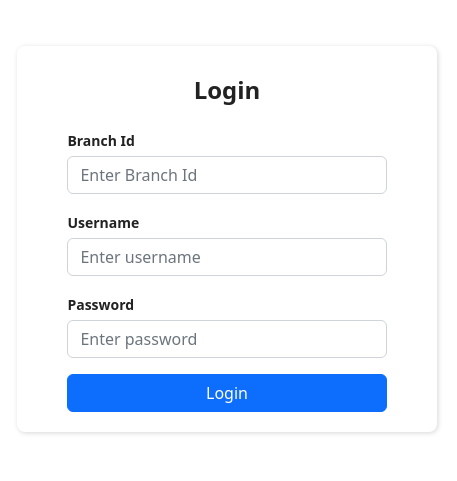
Test: Show validation message when authentication failed
Type "1235" into the field with test id "test-branchId" at (227, 175), box [67,156,387,194]
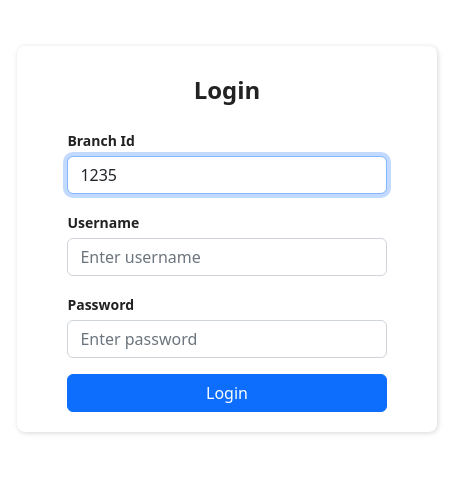
Type "test" into the field with test id "test-username" at (227, 257), box [67,238,387,276]
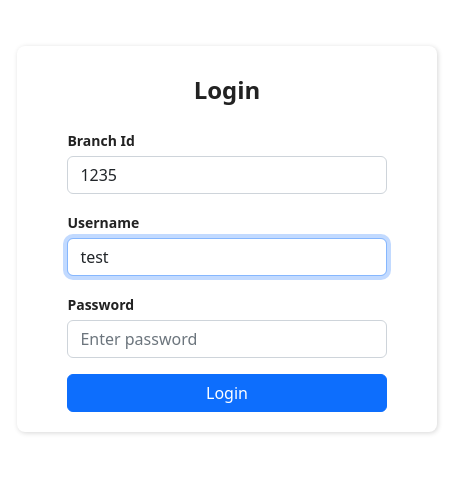
Type "test" into the password field with test id "test-password" at (227, 339), box [67,320,387,358]
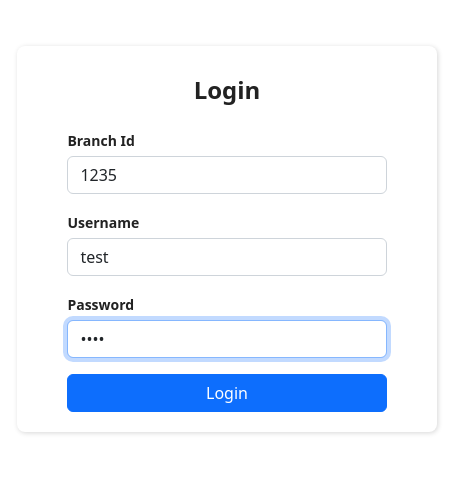
Click the button with test id "test-login-btn" at (227, 393), box [67,374,387,412]
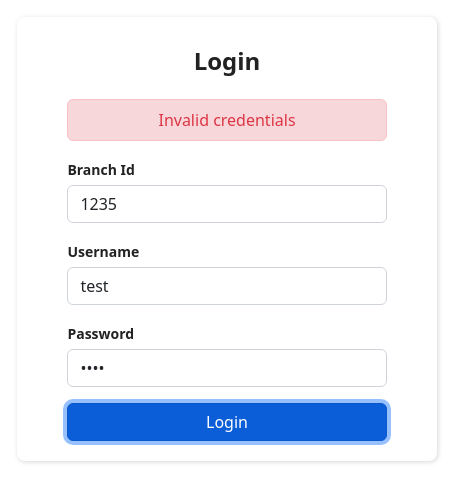
Now the text "Invalid credentials" is shown, box [67,99,387,141]
